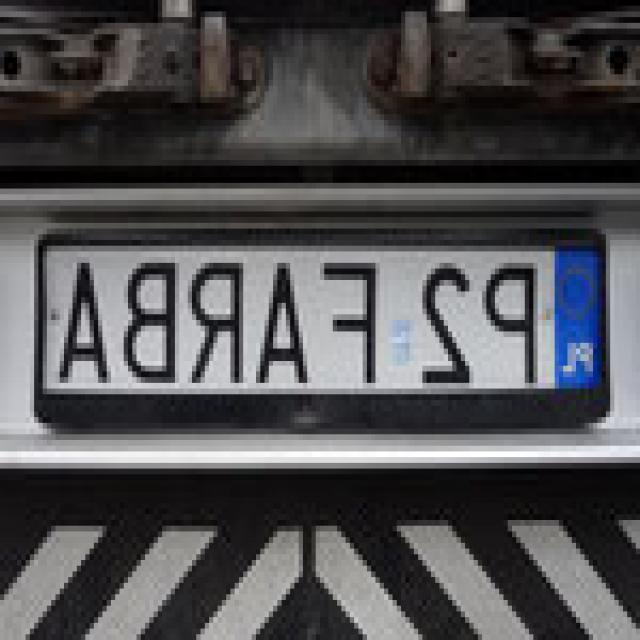pl_license_plate: (43, 234, 606, 389)
